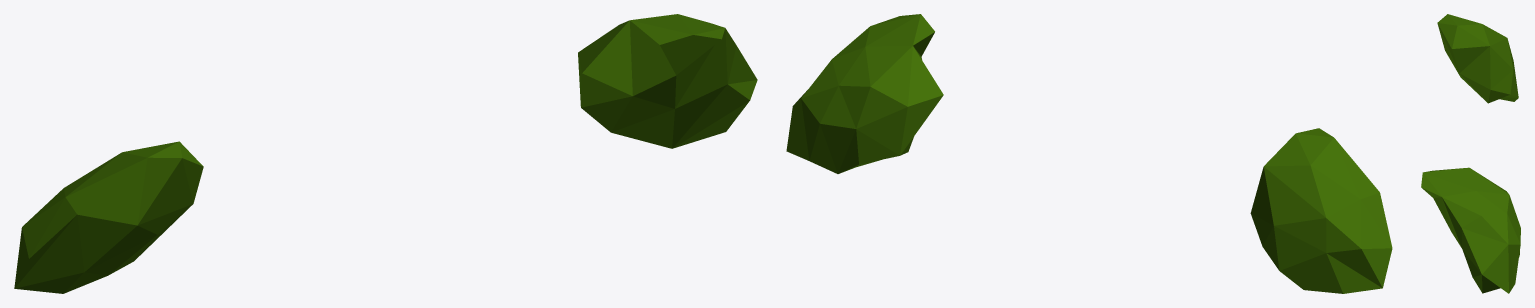
Rendered from 160-Acb-accumbens nucleus-('0.2863', '0.4980', '0.0000').obj.
3 views of the same model, side by side, from view 1: azimuth 30°, elevation 25°; view 2: azimuth 150°, elevation 25°; view 3: azimuth 270°, elevation 25° (orthographic). The views are drawn at different scales.
Bounding box in the file's own units: 57.83 × 11.93 × 10.67.
